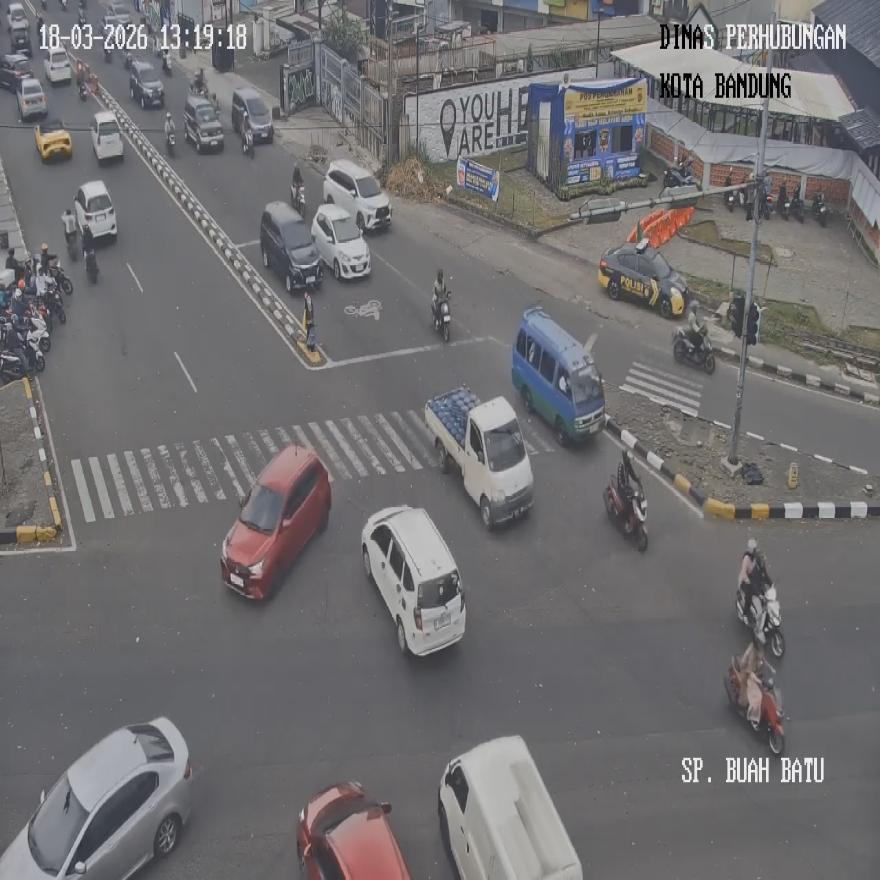Motor: (0, 716, 192, 877), (438, 734, 583, 878), (220, 444, 331, 600), (423, 386, 534, 529), (360, 504, 465, 655), (512, 306, 606, 444), (296, 781, 410, 880), (260, 200, 322, 294), (323, 160, 391, 232), (311, 204, 371, 279)
Truk: (724, 655, 784, 754), (604, 463, 648, 550), (736, 582, 784, 660), (0, 326, 44, 382), (672, 324, 715, 374), (745, 178, 772, 222), (47, 256, 73, 294), (62, 208, 79, 262), (432, 291, 450, 341), (663, 159, 693, 189), (302, 290, 316, 350), (723, 168, 739, 212), (788, 186, 806, 222), (290, 177, 305, 218), (811, 188, 827, 226), (85, 246, 100, 284), (164, 111, 176, 154), (242, 127, 254, 158), (102, 30, 113, 62), (160, 45, 171, 75), (58, 0, 66, 11)
